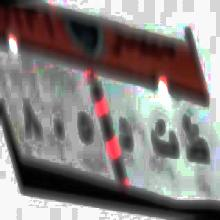0: (54, 113, 66, 144)
5: (75, 106, 95, 157)
8: (19, 98, 43, 150)
Thaa: (180, 114, 208, 166)
daal: (118, 116, 132, 156)
taa: (150, 118, 178, 160)
